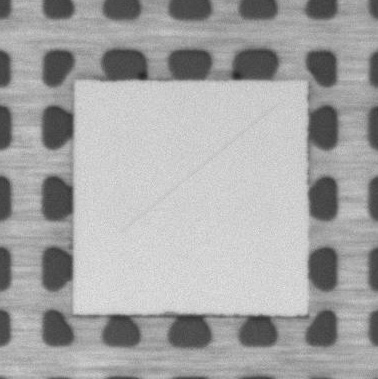DIE_CRACK: (122, 106, 274, 232)
